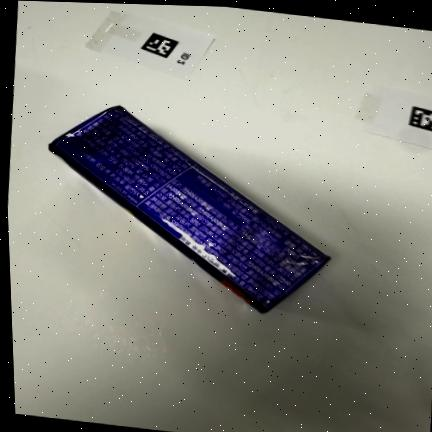cracker_ace: (50, 107, 329, 312)
